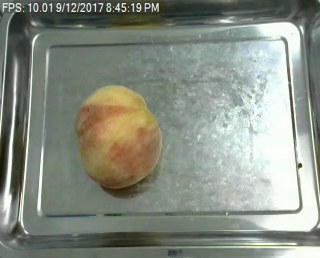Peach: (75, 84, 162, 189)
